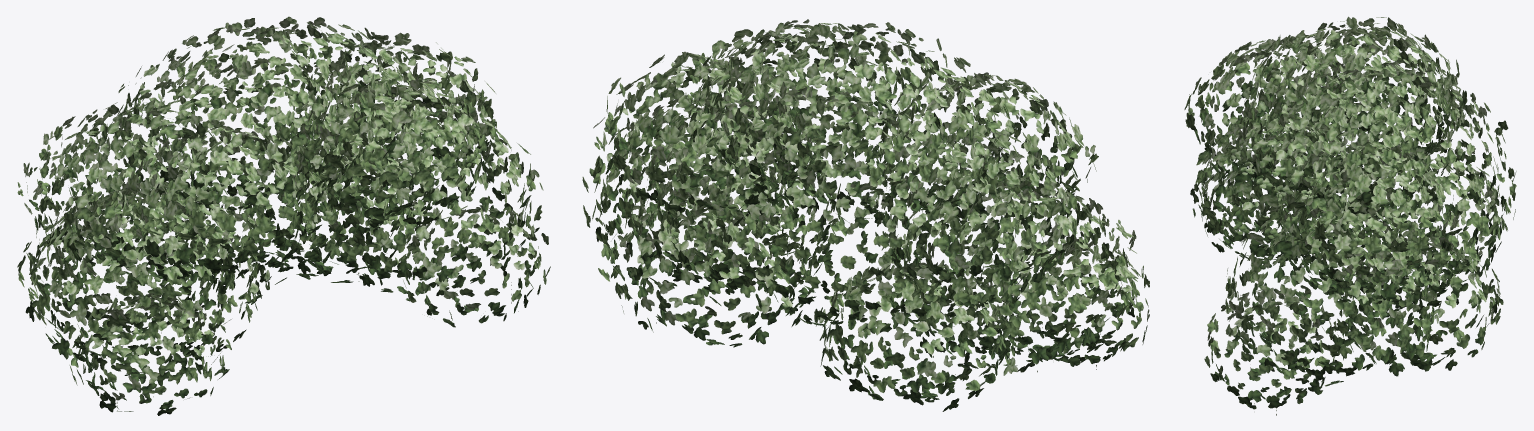
Rendered from leaves.glb.
3 views of the same model, side by side, from view 1: azimuth 30°, elevation 25°; view 2: azimuth 150°, elevation 25°; view 3: azimuth 270°, elevation 25° (orthographic). The views are drawn at different scales.
Visible parts, largest first — view 1: card; view 2: card; view 3: card.
Boxes of the visible parts, x1,y1,x2,y2 form: card: [17, 16, 550, 415]; card: [582, 19, 1149, 411]; card: [1184, 16, 1516, 415].
Size of the model in its own units: 376 by 220 by 225.
1 material, 1 textured.
